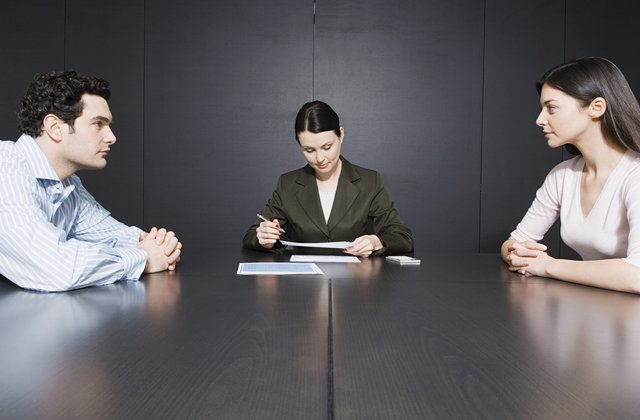Caution: (239, 58, 640, 300), (1, 71, 415, 292)
